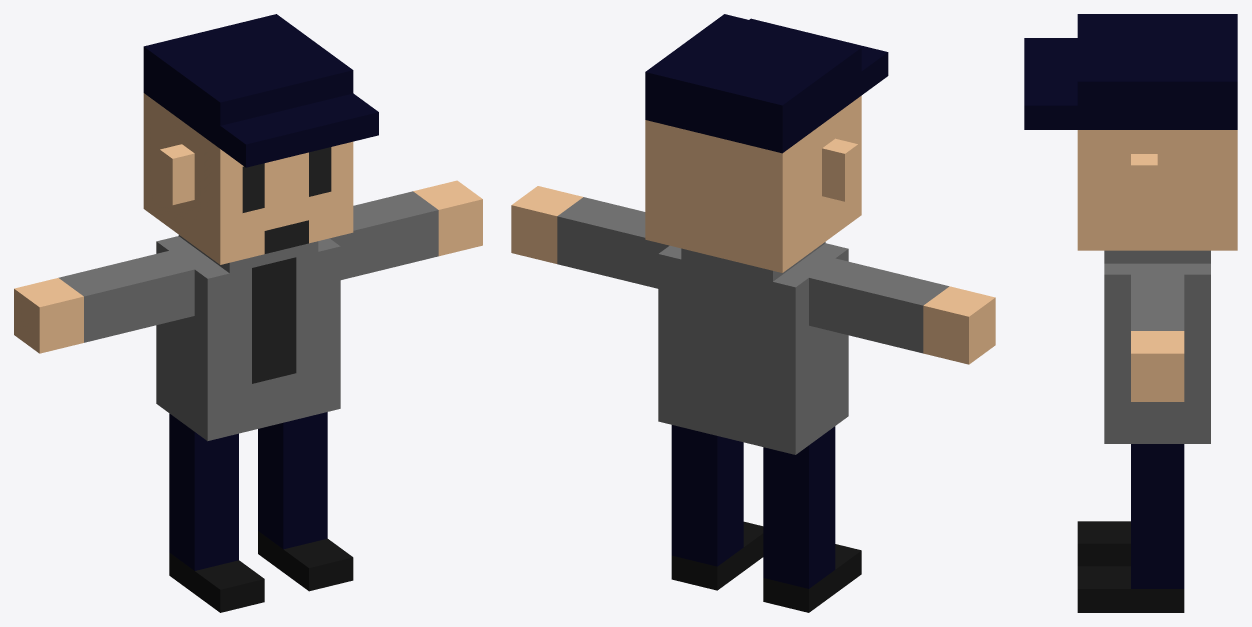
File: Trainvasion Moterman-6-Man1.obj
3 renders of one model, left to right at view 1: azimuth 30°, elevation 25°; view 2: azimuth 150°, elevation 25°; view 3: azimuth 270°, elevation 25°, orthographic. The views are drawn at different scales.
Parts seen in each view (by area): view 1: Man1; view 2: Man1; view 3: Man1.
Part boxes in pixels (x1,y1,x2,y2): Man1: [14, 14, 482, 612]; Man1: [511, 14, 995, 612]; Man1: [1024, 14, 1237, 612].
Bounding box in the file's own units: 2 × 2.2 × 0.8.
1 material, 1 textured.
